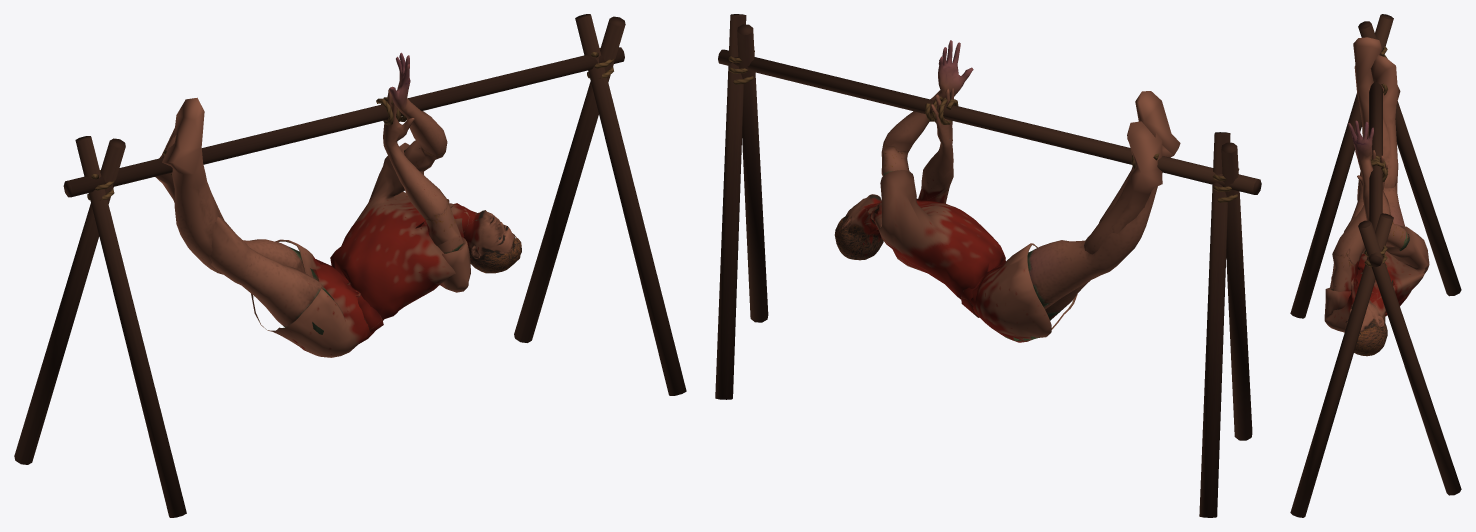
File: mm6_deco_corpse02.glb
3 renders of one model, left to right at view 1: azimuth 30°, elevation 25°; view 2: azimuth 150°, elevation 25°; view 3: azimuth 270°, elevation 25°, orthographic. The views are drawn at different scales.
Parts seen in each view (by area): view 1: Corpse02; view 2: Corpse02; view 3: Corpse02.
Part boxes in pixels (bbox=[...]): Corpse02: bbox=[14, 14, 686, 517]; Corpse02: bbox=[715, 14, 1261, 517]; Corpse02: bbox=[1290, 14, 1461, 517].
Bounding box in the file's own units: 1.95 × 1.21 × 0.6138.
Materials: 3 (3 with a texture image).
